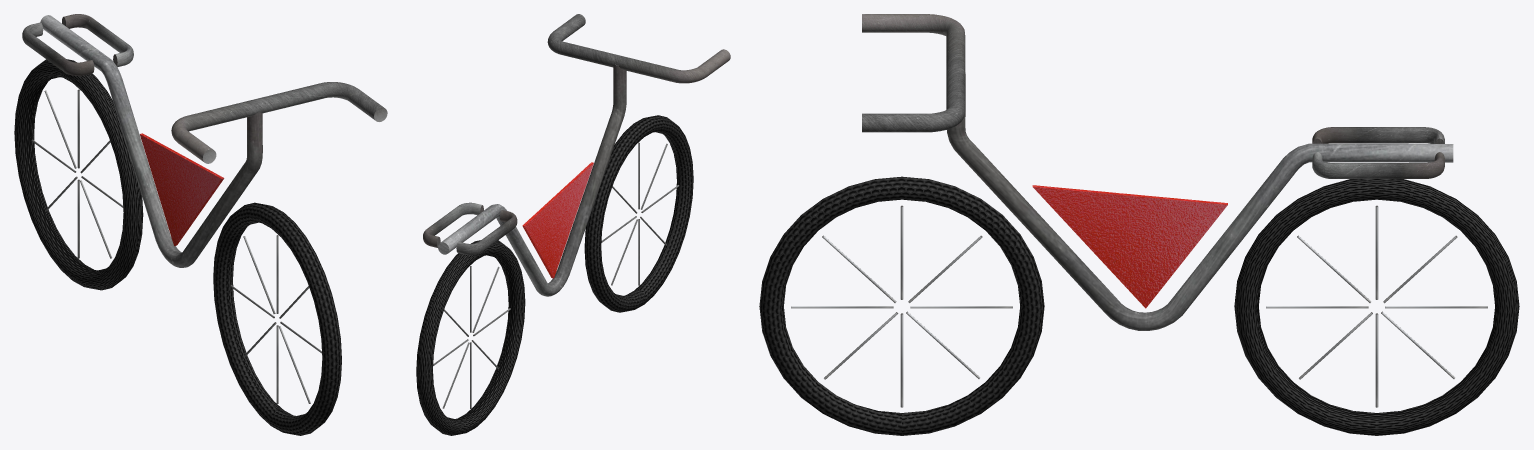
File: bicycle_new.glb
The picture shows the model from 3 angles, left to right: view 1: azimuth 30°, elevation 25°; view 2: azimuth 150°, elevation 25°; view 3: azimuth 270°, elevation 25°; orthographic projection. The views are drawn at different scales.
Parts seen in each view (by area): view 1: Cylinder.016; view 2: Cylinder.016; view 3: Cylinder.016.
Part boxes in pixels (x1,y1,x2,y2): Cylinder.016: [14, 14, 387, 435]; Cylinder.016: [416, 14, 730, 435]; Cylinder.016: [759, 14, 1519, 435].
Bounding box in the file's own units: 0.6257 × 1.01 × 1.87.
Materials: 5 (5 with a texture image).
